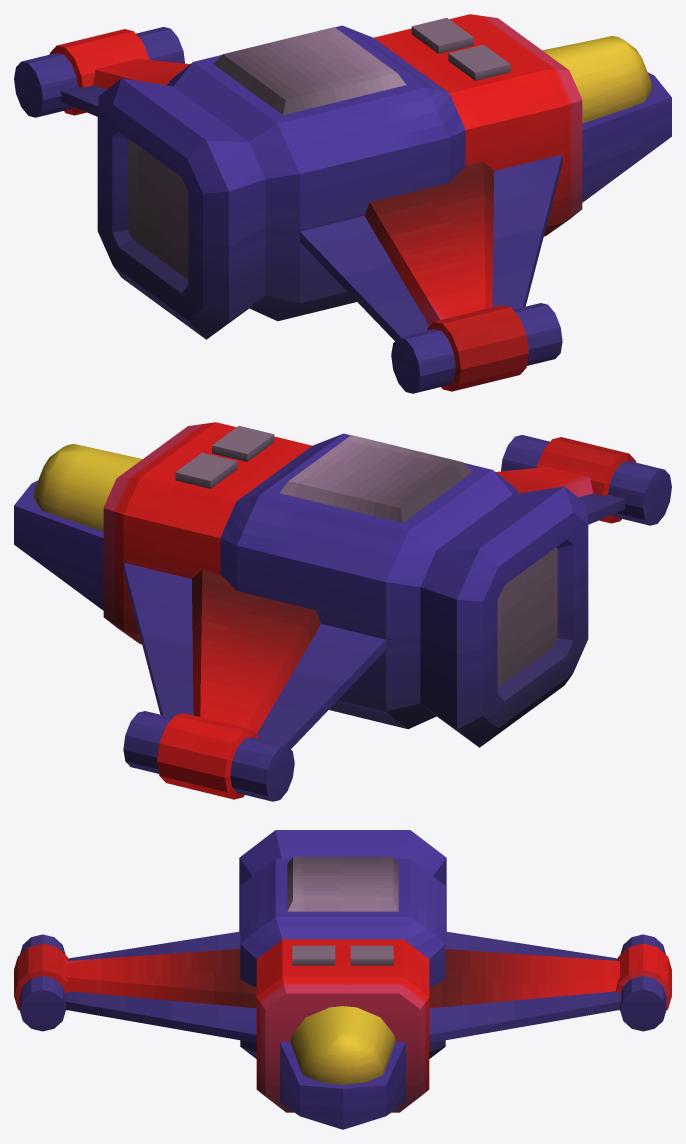
The model's file is SM_Enemy_Hauler.fbx.
3 views of the same model, one above another, from view 1: azimuth 30°, elevation 25°; view 2: azimuth 150°, elevation 25°; view 3: azimuth 270°, elevation 25° (orthographic). The views are drawn at different scales.
Parts seen in each view (by area): view 1: Enemy_Hauler; view 2: Enemy_Hauler; view 3: Enemy_Hauler.
Boxes of the visible parts, x1=… form: Enemy_Hauler: x1=14, y1=14, x2=671, y2=393; Enemy_Hauler: x1=14, y1=422, x2=671, y2=801; Enemy_Hauler: x1=14, y1=830, x2=671, y2=1129.
Size of the model in its own units: 447 by 177 by 635.
Materials: 1 (1 with a texture image).
